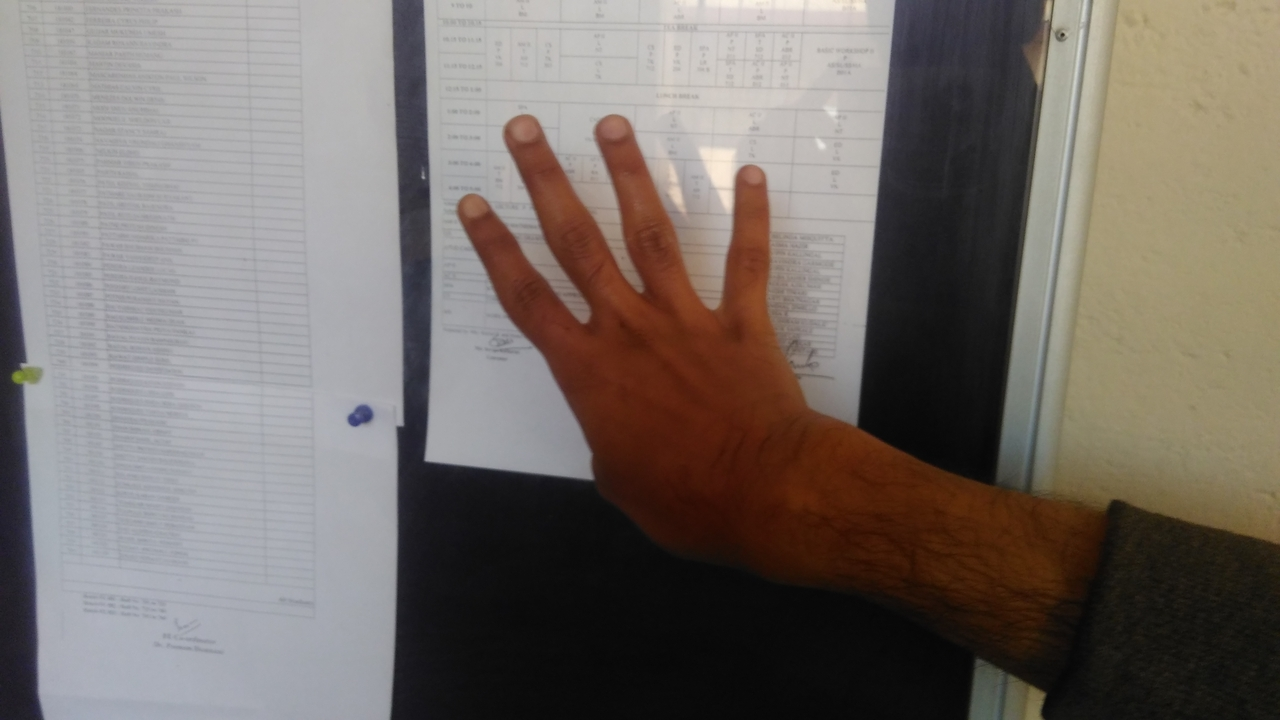fingertip: (496, 112, 550, 154), (446, 182, 498, 224), (730, 154, 776, 196), (588, 112, 640, 146)
